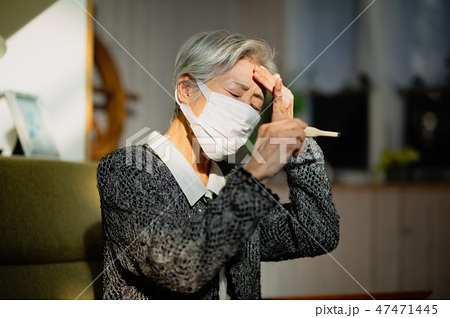mask: (197, 99, 263, 169)
